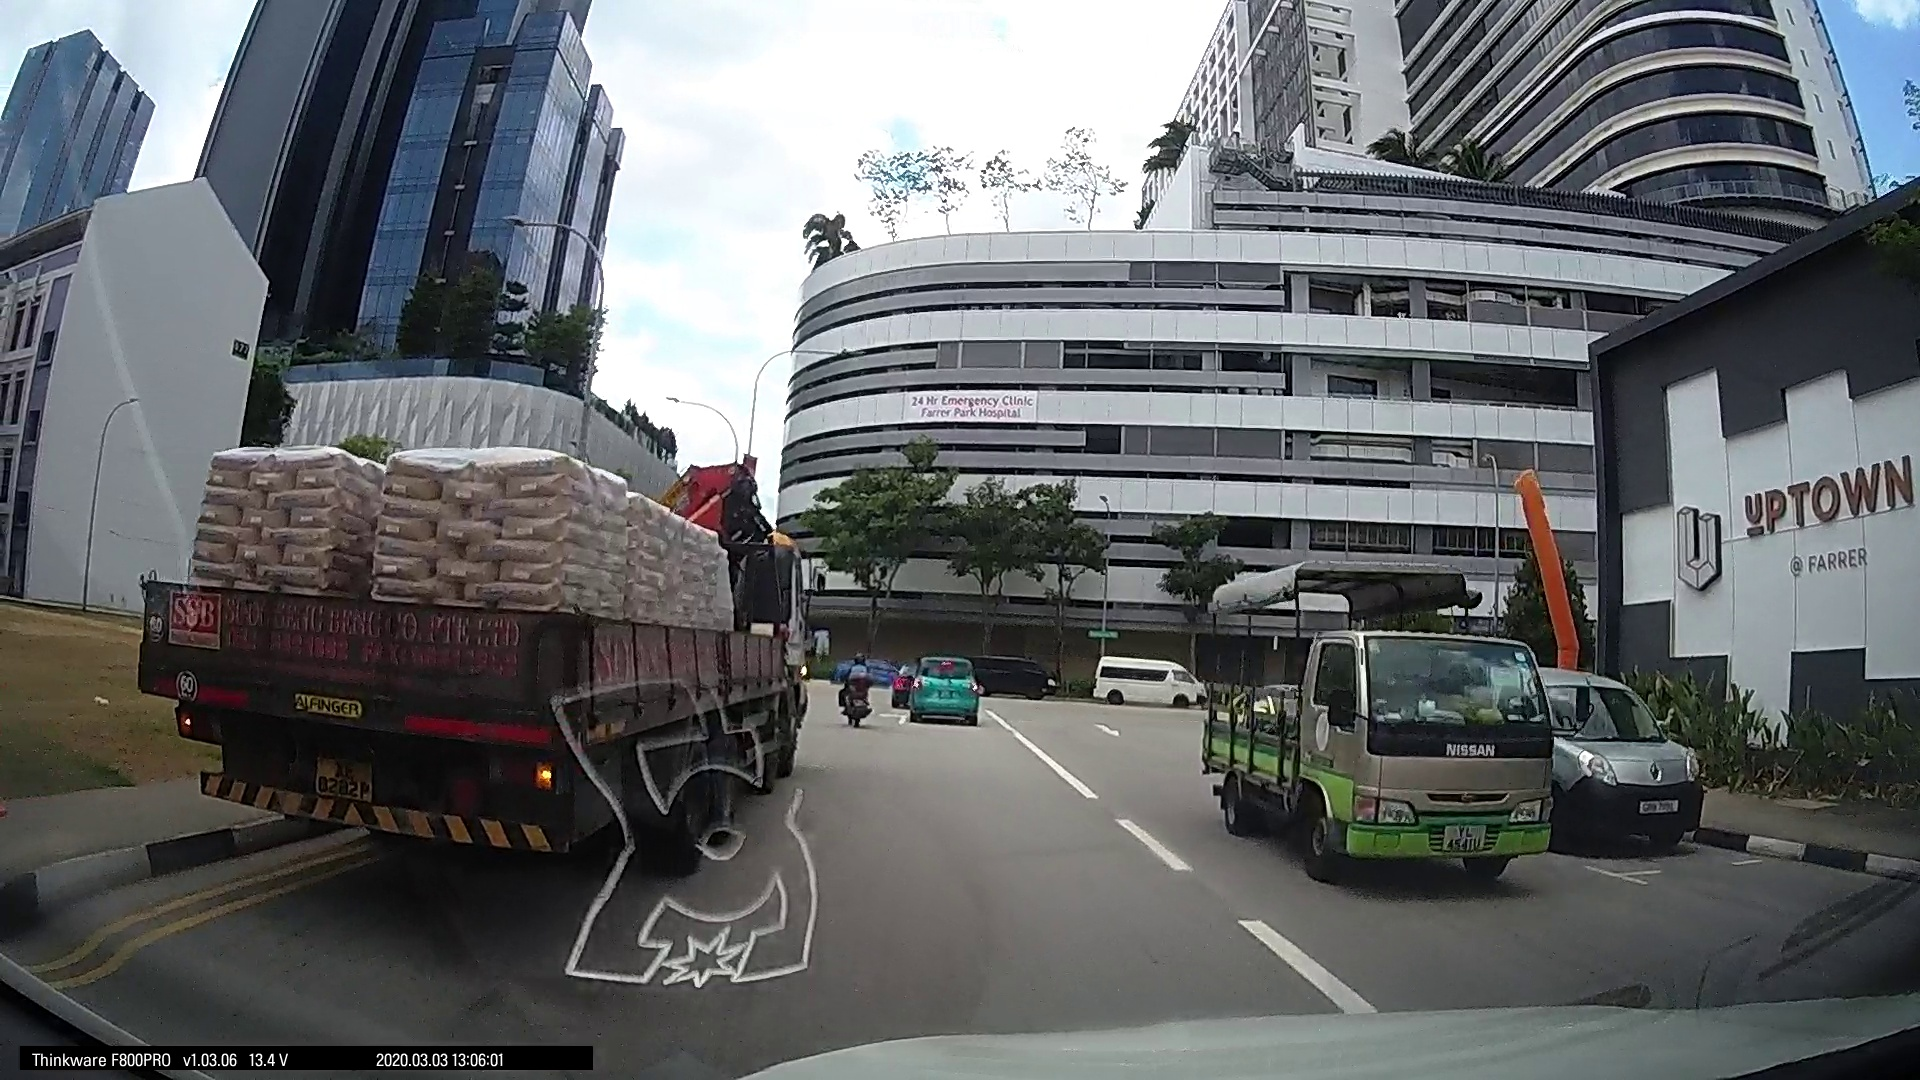Heavy Vehicle: (138, 376, 804, 880), (1209, 609, 1553, 887)
Light Vehicle: (1535, 671, 1705, 858), (1080, 651, 1200, 711), (903, 654, 982, 723), (965, 647, 1052, 698)
